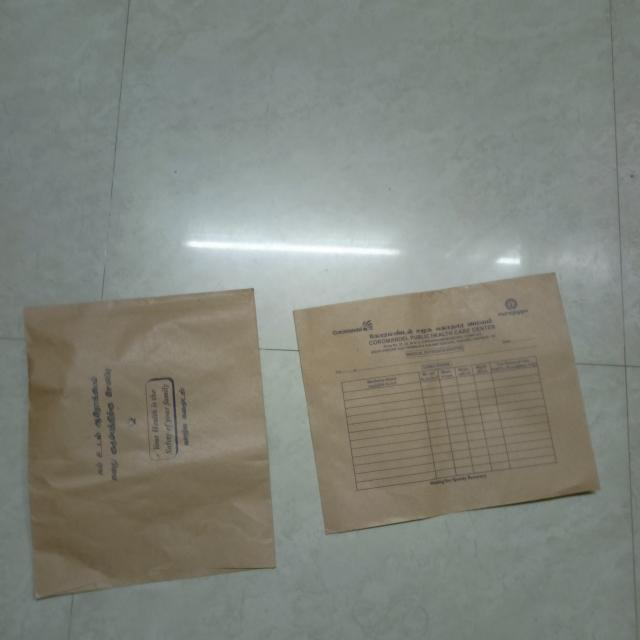box: (293, 267, 605, 535), (24, 286, 277, 601)
